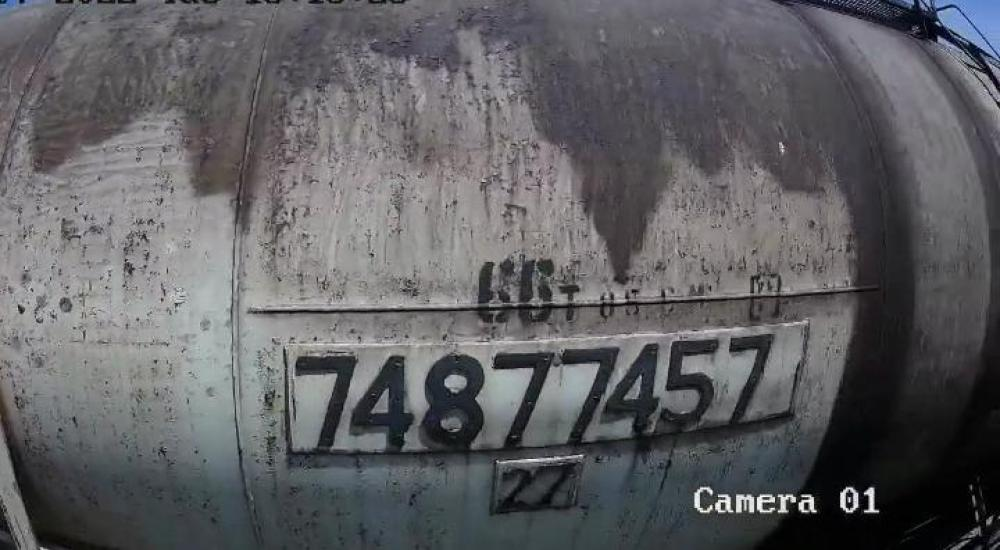Wagon-number: (295, 326, 782, 451)
